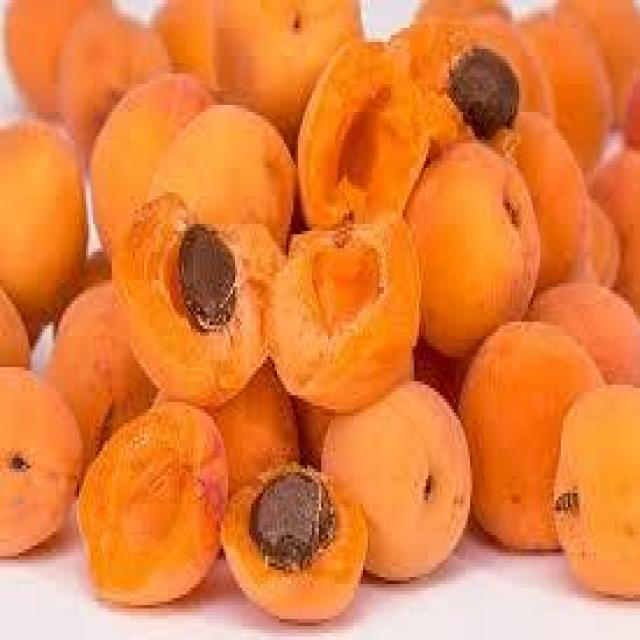cekirdek: (243, 467, 340, 579), (441, 47, 526, 147), (172, 217, 241, 335)
kayisi: (458, 314, 613, 562), (116, 195, 278, 414), (67, 398, 227, 606), (318, 378, 474, 586), (272, 205, 422, 408), (401, 134, 536, 343), (295, 34, 436, 232), (222, 455, 370, 630), (147, 103, 298, 260), (549, 378, 640, 605), (0, 115, 89, 331), (0, 360, 89, 562)
